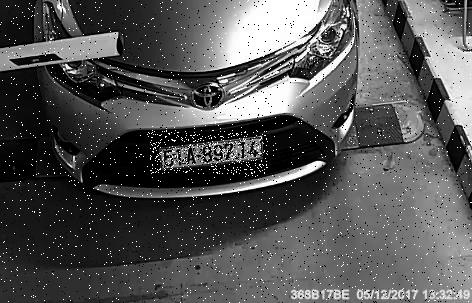License-plate: (151, 131, 269, 175)
